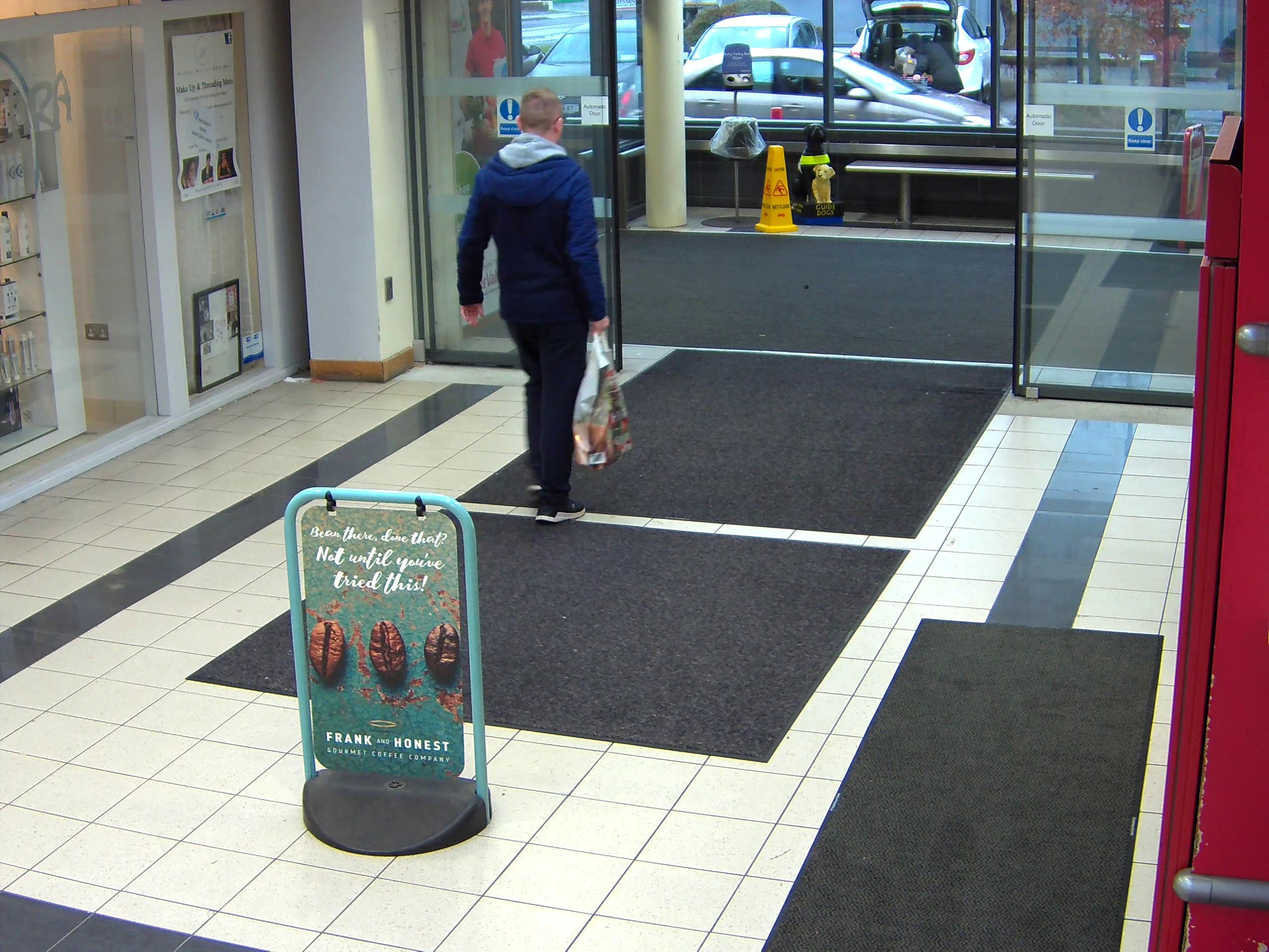filled-shopping-bags: (570, 335, 635, 472)
person: (455, 87, 610, 522)
person-with-filled-shopping-bag-s-: (456, 87, 635, 524)
